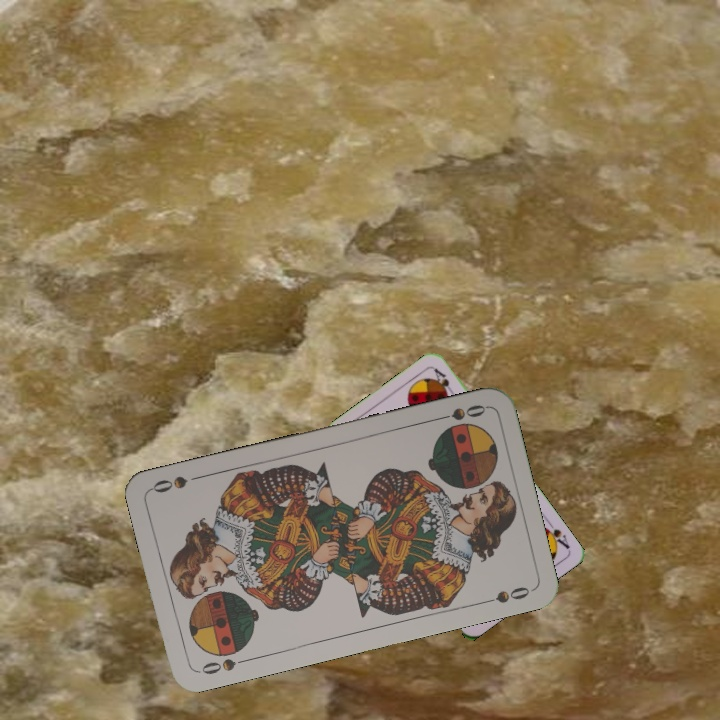SA: (538, 516, 572, 552)
SO: (193, 645, 252, 677), (430, 400, 488, 424)
